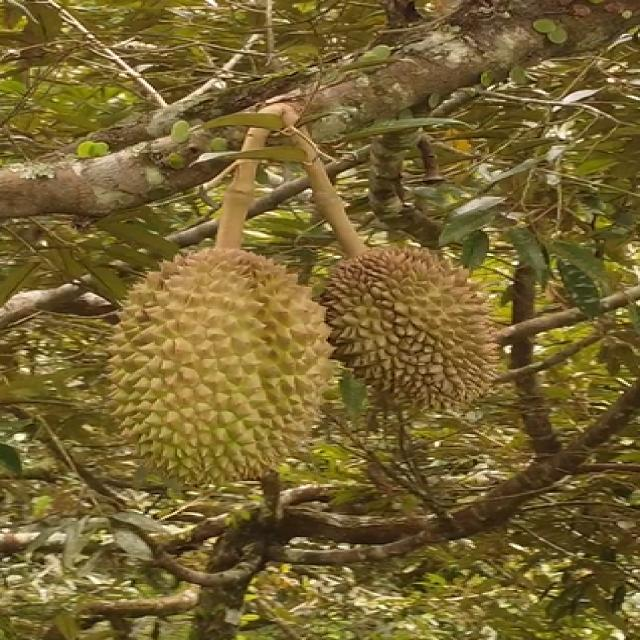mature: (107, 247, 328, 482), (324, 248, 508, 414)
